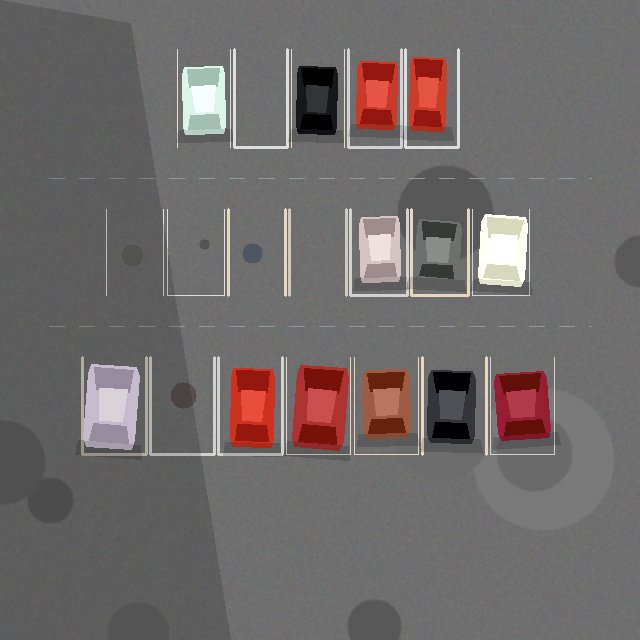space-empty: (150, 357, 214, 454), (234, 49, 287, 147), (106, 209, 163, 295), (167, 209, 224, 295), (228, 209, 285, 295), (289, 209, 346, 295)
space-occupied: (82, 357, 146, 454), (218, 357, 282, 454), (286, 357, 350, 454), (354, 357, 418, 454), (422, 357, 486, 454), (490, 357, 554, 454), (177, 49, 230, 147), (291, 49, 344, 147), (348, 49, 401, 147), (405, 49, 458, 147), (350, 209, 407, 295), (411, 209, 468, 295), (472, 209, 529, 295)
